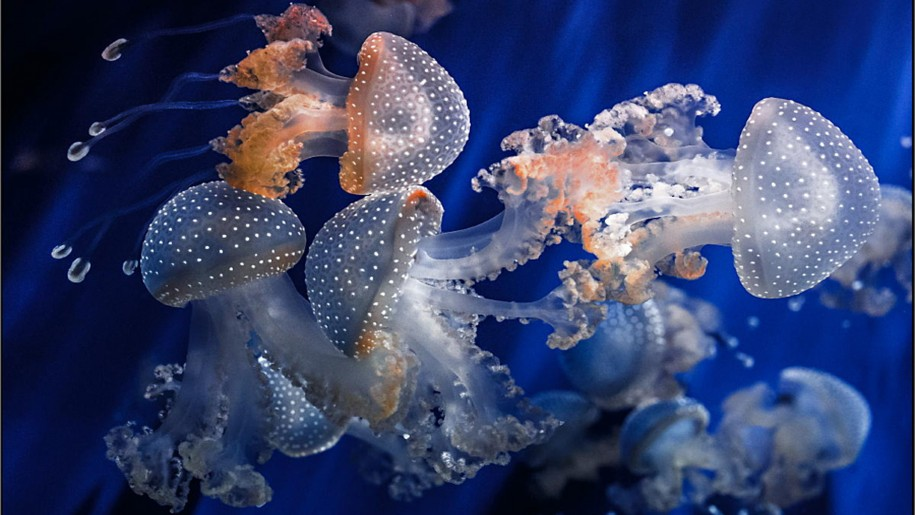jellyfish: (518, 95, 879, 287), (131, 174, 317, 485), (151, 21, 472, 199), (306, 184, 550, 411)
